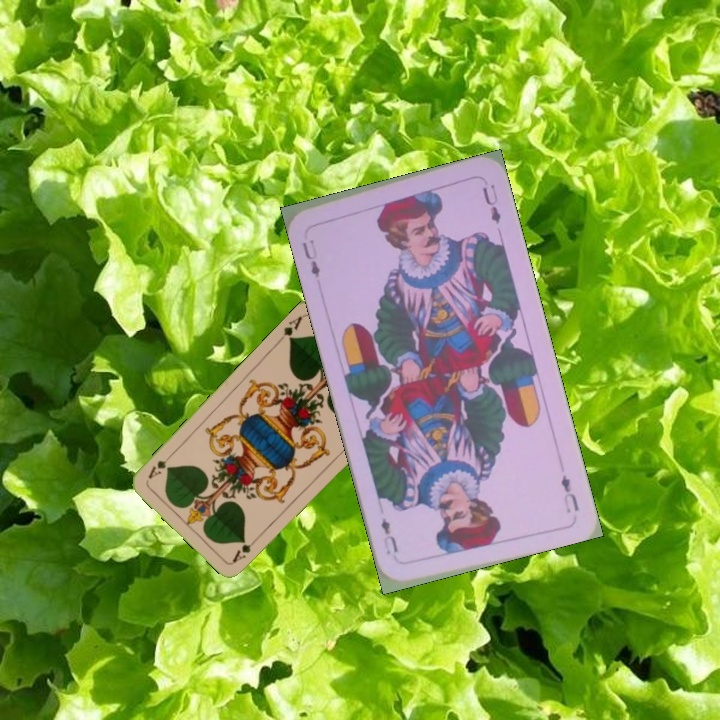EU: (556, 470, 582, 516), (298, 235, 323, 280)
GA: (273, 312, 305, 346), (229, 532, 261, 565)
